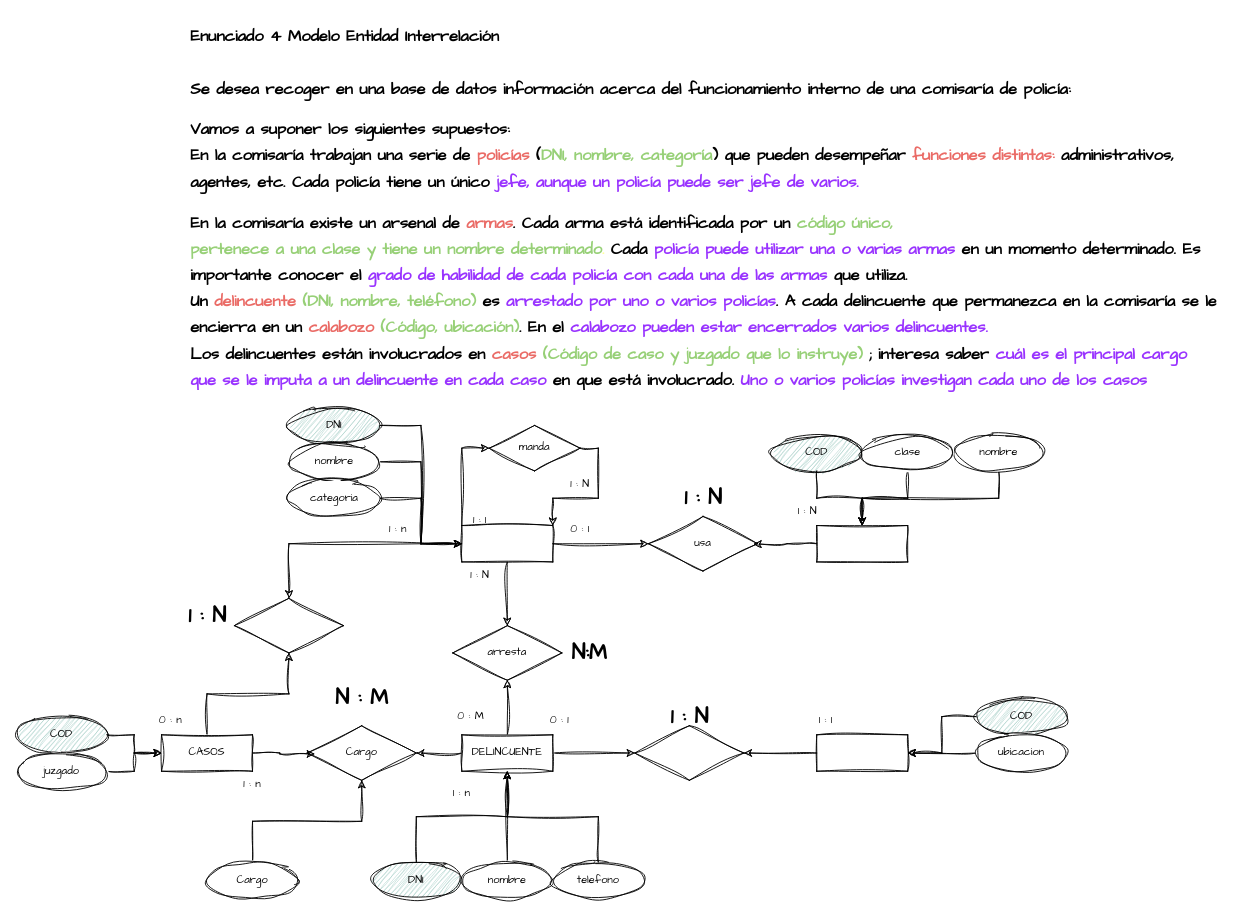
This 1233x915 diagram has some shape labels left out. The box of each missing label's shape, as (x1, y1, x2, y2) in pixels:
ARMA: (816, 525, 908, 562)
CALABOZO: (816, 734, 908, 771)
esta: (634, 725, 744, 780)
involucrado: (233, 597, 344, 653)
POLICIA: (461, 525, 553, 562)
